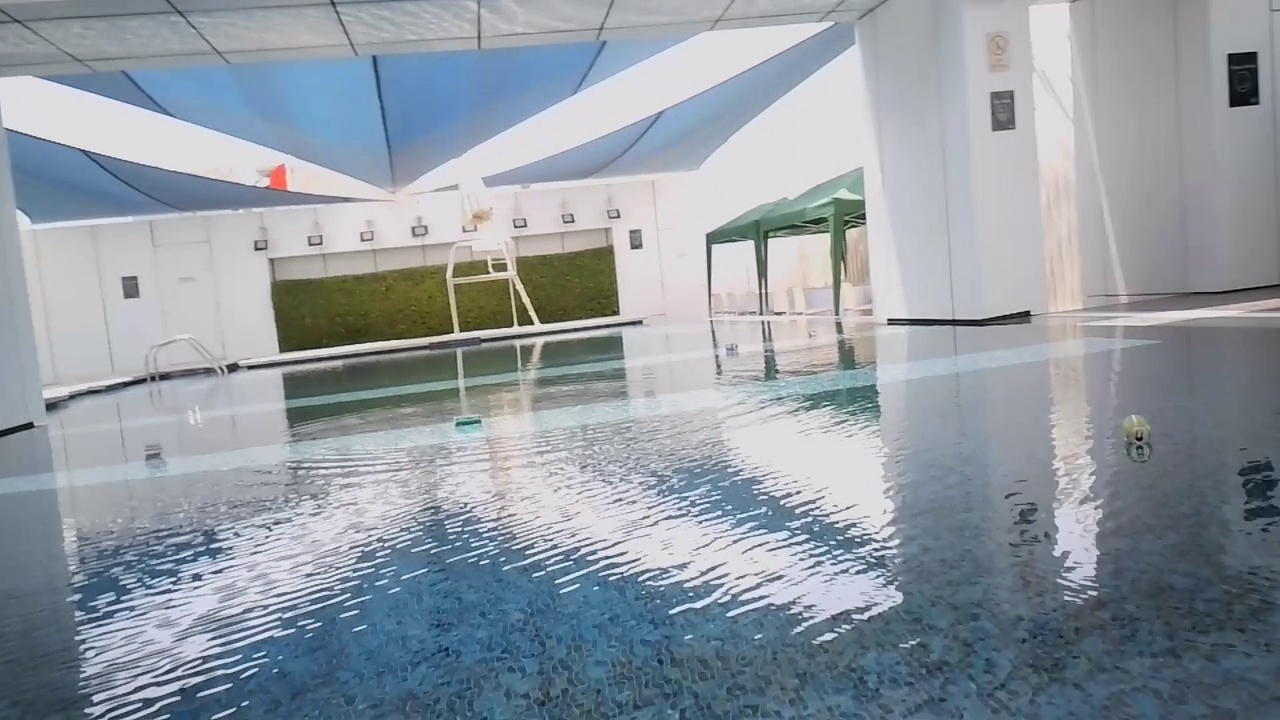debris: (1122, 411, 1154, 452), (448, 411, 485, 434), (722, 341, 740, 351), (806, 327, 818, 339)
